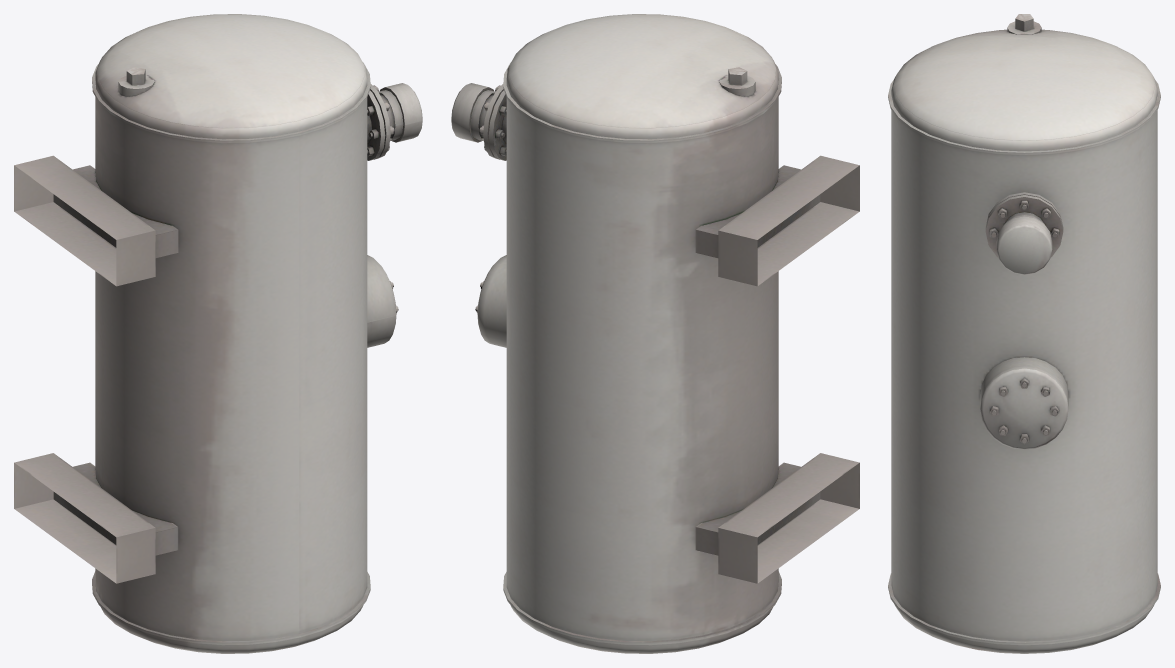
File: props_2fort_tank002.glb
The picture shows the model from 3 angles, left to right: view 1: azimuth 30°, elevation 25°; view 2: azimuth 150°, elevation 25°; view 3: azimuth 270°, elevation 25°; orthographic projection. The views are drawn at different scales.
Visible parts, largest first — view 1: models/props_2fort/tank002; view 2: models/props_2fort/tank002; view 3: models/props_2fort/tank002.
Part boxes in pixels (box(x1,y1,x2,y2)): models/props_2fort/tank002: box(14, 14, 422, 653); models/props_2fort/tank002: box(451, 14, 859, 653); models/props_2fort/tank002: box(888, 14, 1160, 653).
Bounding box in the file's own units: 140 × 221 × 98.4.
1 material, 1 textured.
